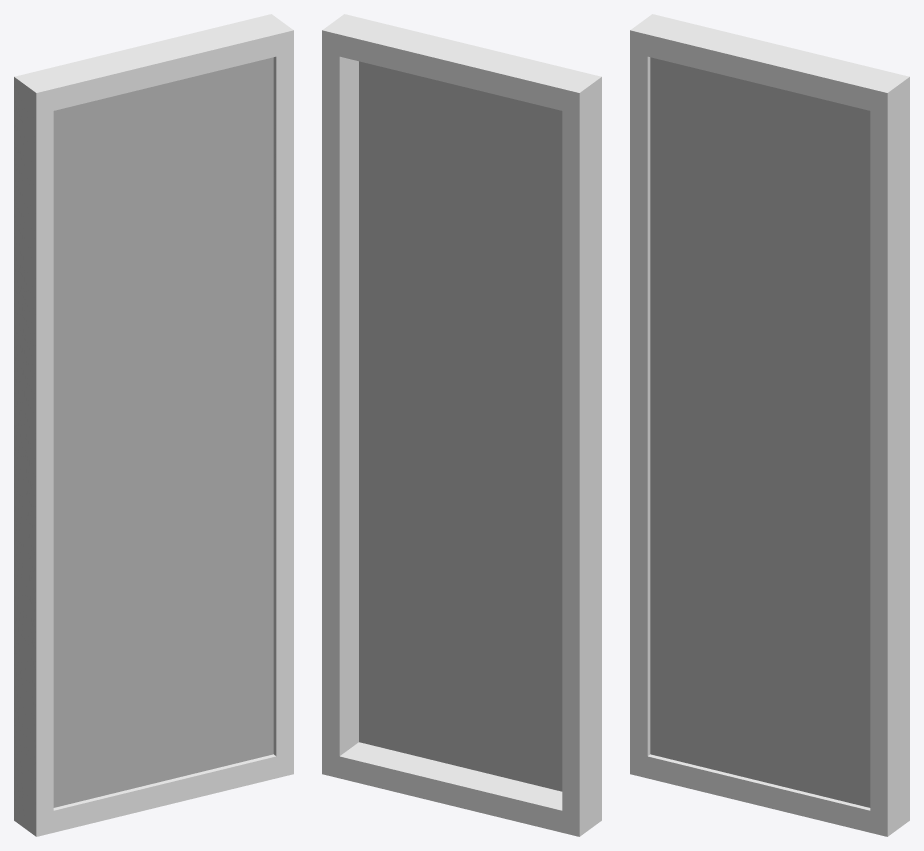
Rendered from HoloScreen_Small_2.fbx.
The picture shows the model from 3 angles, left to right: view 1: azimuth 30°, elevation 25°; view 2: azimuth 150°, elevation 25°; view 3: azimuth 330°, elevation 25°; orthographic projection.
Visible parts, largest first — view 1: Beam; view 2: Beam; view 3: Beam.
Boxes of the visible parts, box(x1,y1,x2,y2) form: Beam: box(14, 14, 293, 836); Beam: box(322, 14, 601, 836); Beam: box(630, 14, 909, 836).
Size of the model in its own units: 593 by 1638 by 89.
